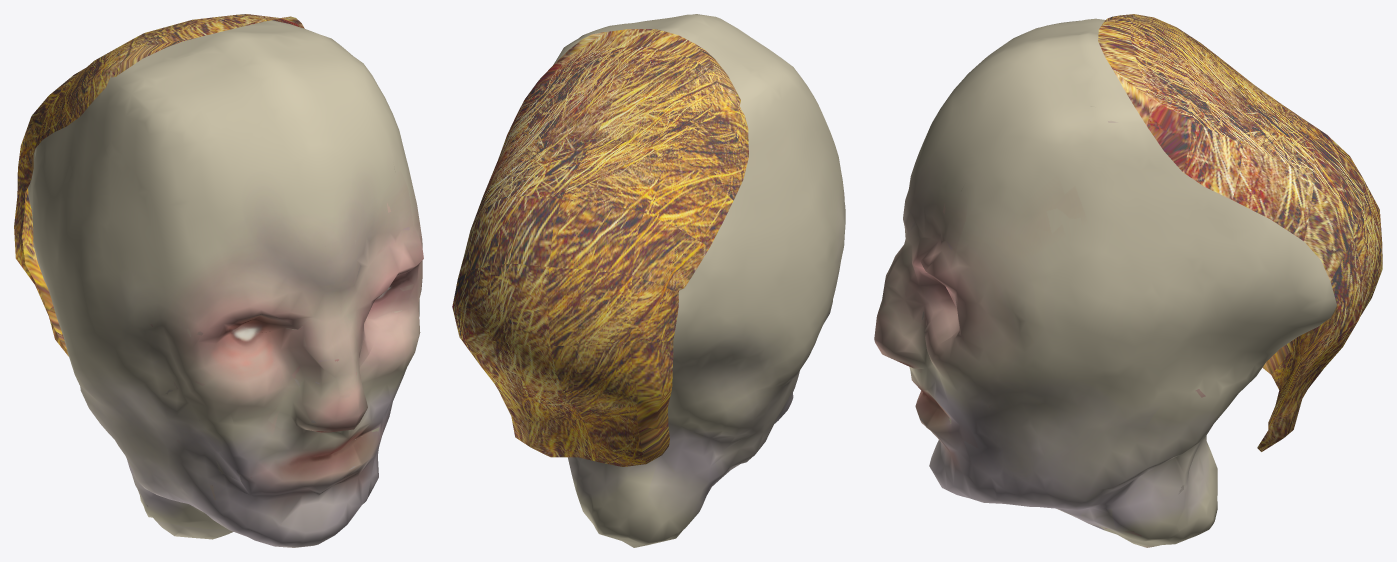
File: SM_A_Téo00_Tete00.fbx
3 renders of one model, left to right at view 1: azimuth 30°, elevation 25°; view 2: azimuth 150°, elevation 25°; view 3: azimuth 270°, elevation 25°, orthographic. The views are drawn at different scales.
Parts seen in each view (by area): view 1: SM_A_Téo00_Tete00; view 2: SM_A_Téo00_Tete00; view 3: SM_A_Téo00_Tete00.
Part boxes in pixels (left/top/right/bottom): SM_A_Téo00_Tete00: left=14, top=14, right=423, bottom=547; SM_A_Téo00_Tete00: left=452, top=14, right=845, bottom=547; SM_A_Téo00_Tete00: left=874, top=14, right=1382, bottom=547.
Size of the model in its own units: 32.79 by 51.51 by 47.01.
